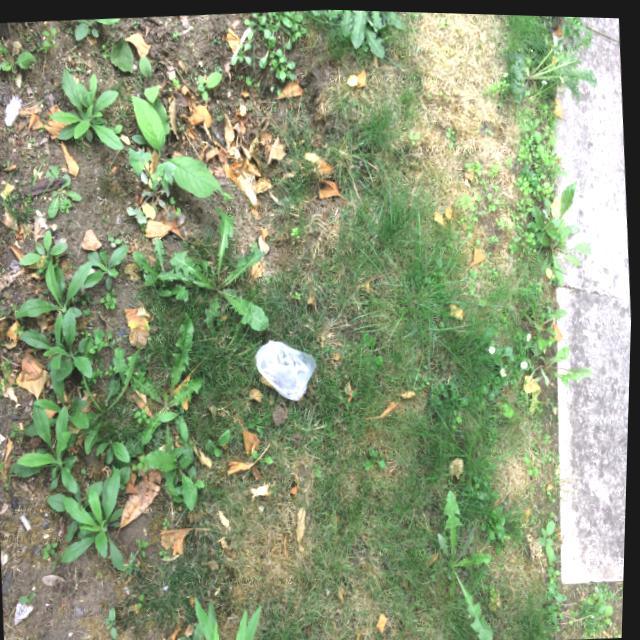Plastic: (250, 329, 324, 406)
